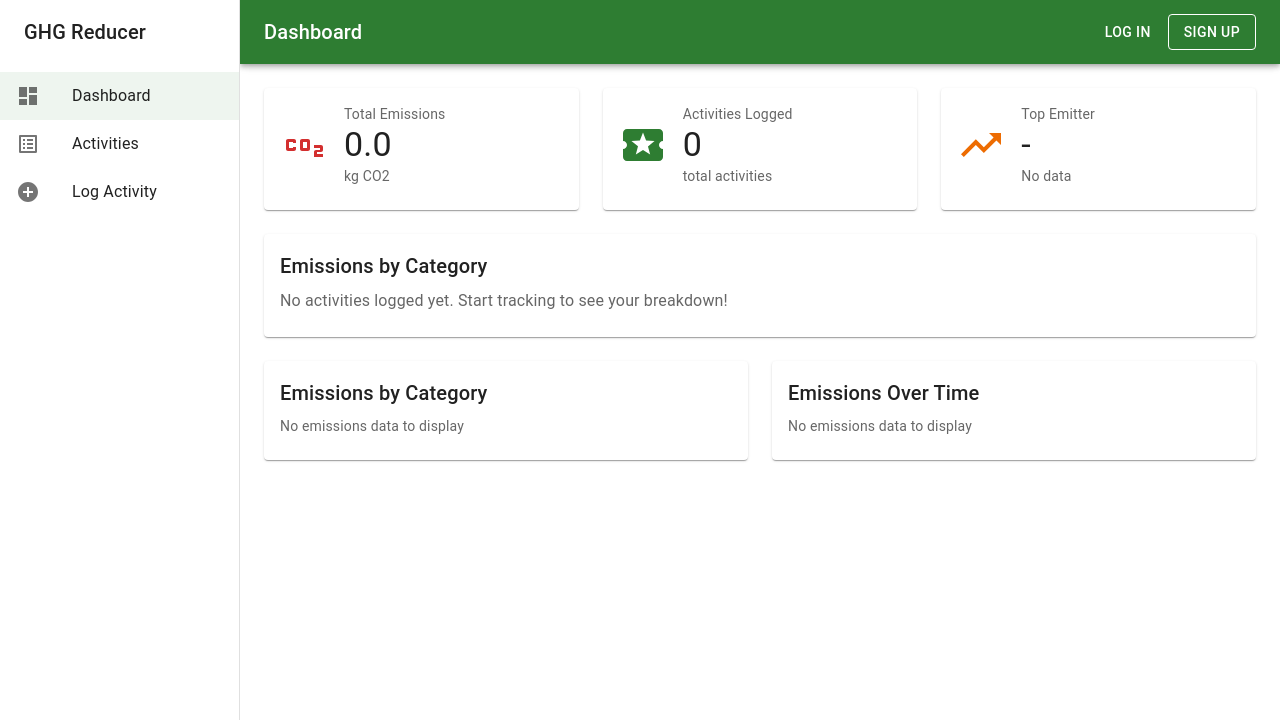
Test: App › navigates to add activity view
This screenshot has width=1280, height=720.
Expected: the 1st text "Dashboard" is shown, [264,20,362,44]
Click the button "Log Activity" at (86,192), box [16,180,157,204]
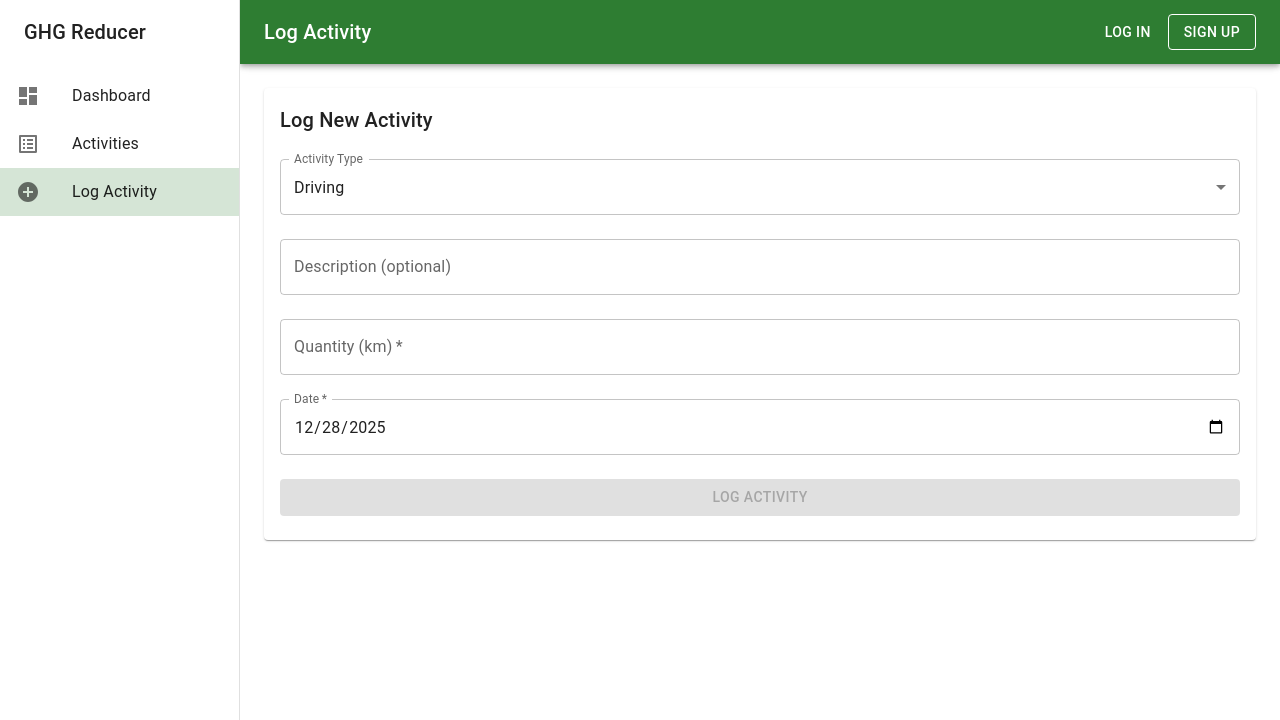
Expected: the heading "Log New Activity" is shown, [280,108,433,132]
